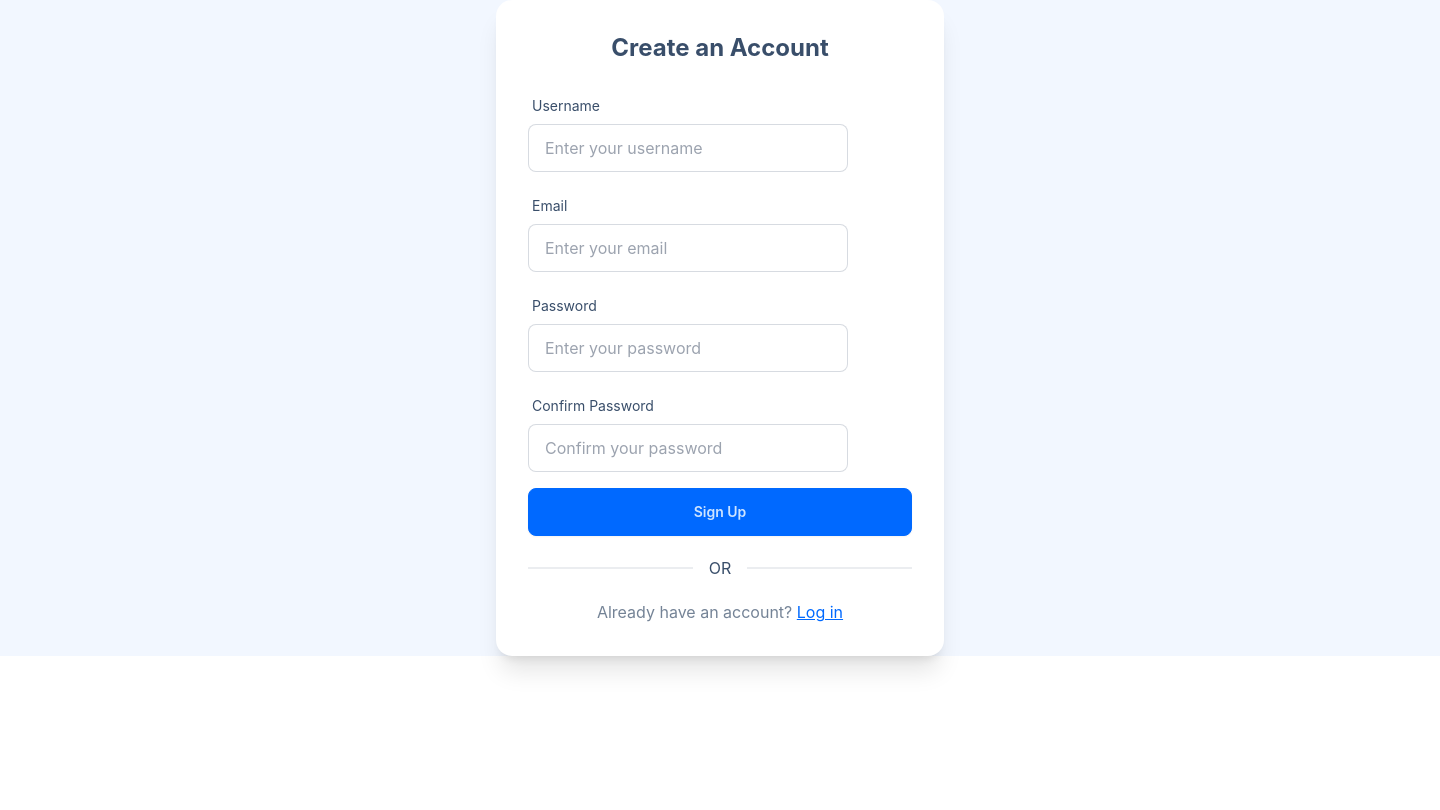
Test: SignUpPage › should show password strength indicator
// Type a weak password
Type "weak" into the password field with placeholder "Enter your password" at (688, 348), box [528, 324, 848, 372]
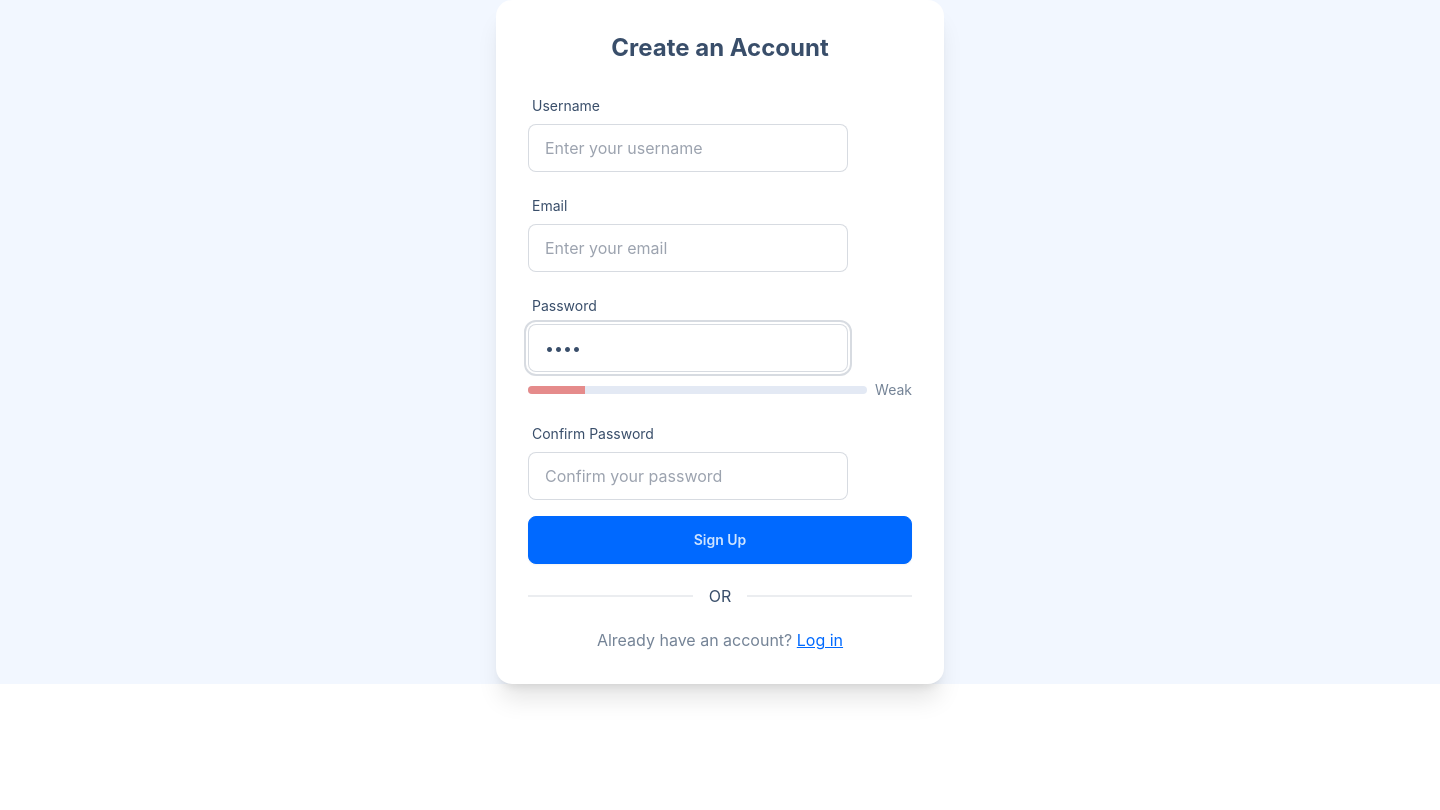
Expected: the text "Weak" is shown, [875, 380, 912, 400]
// Clear and type a strong password
Type "StrongPassword123!" into the password field with placeholder "Enter your password" at (688, 348), box [528, 324, 848, 372]
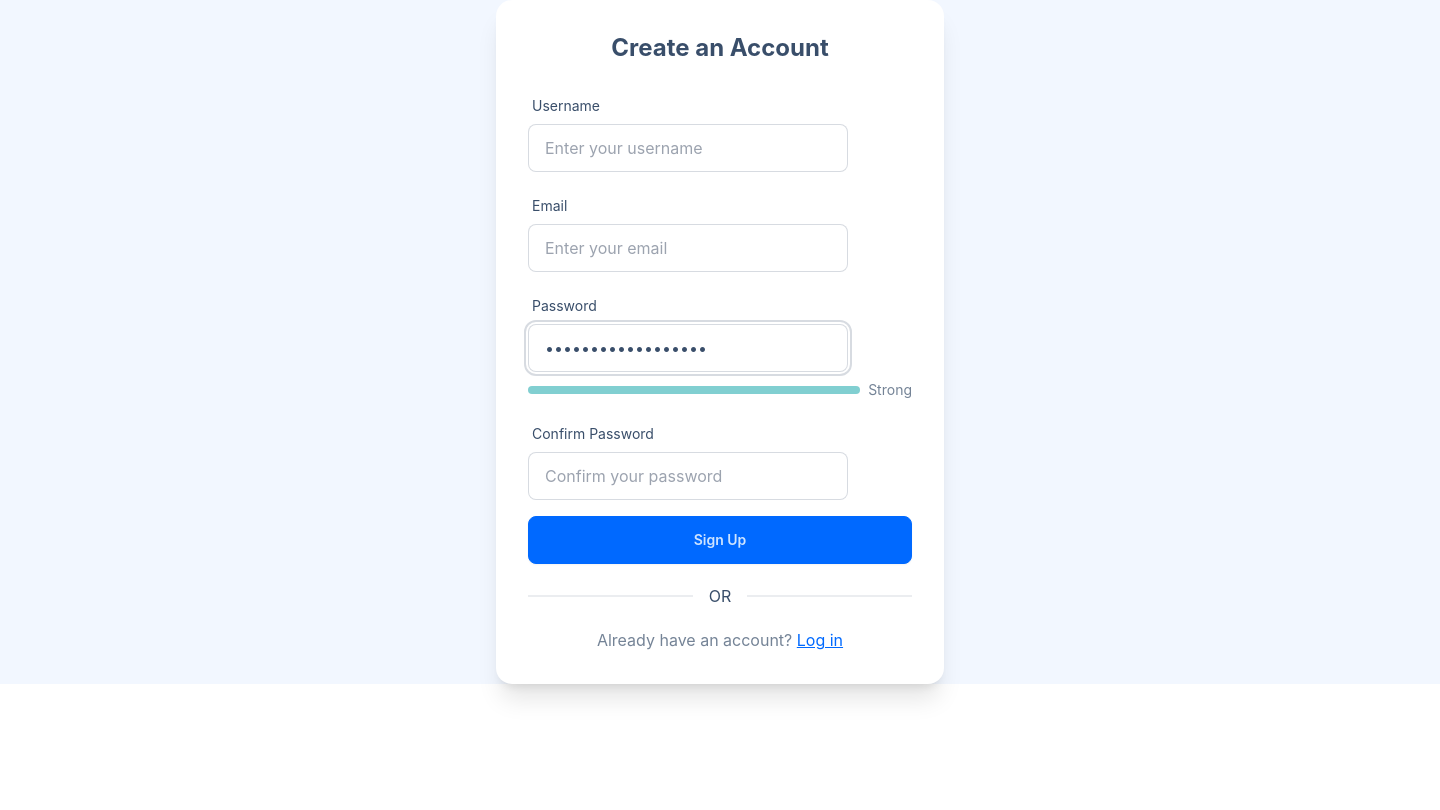
Expected: the text "Strong" is shown, [868, 380, 912, 400]
